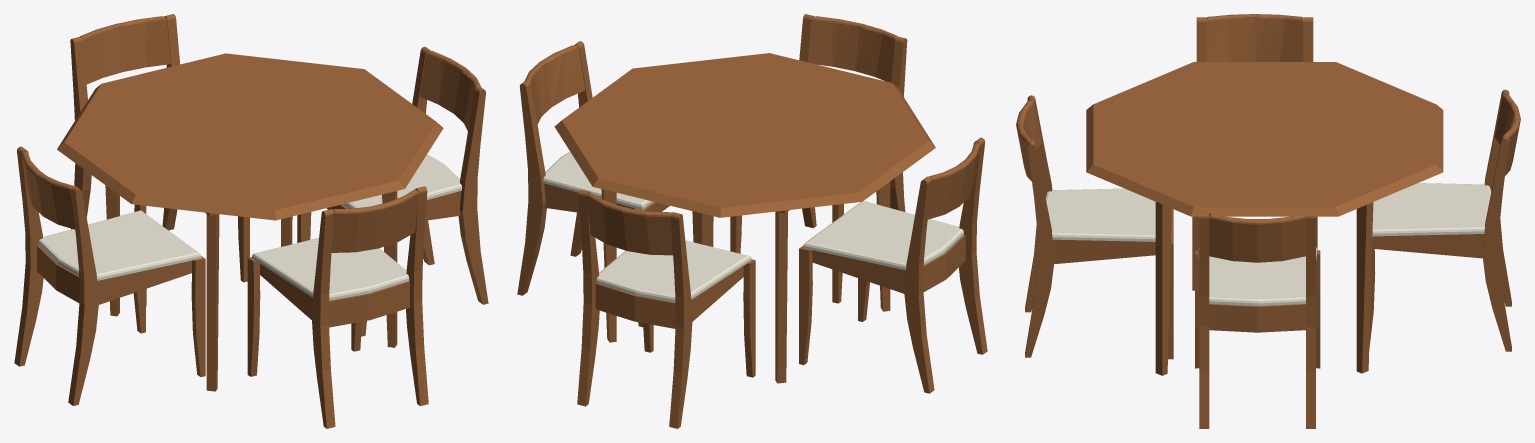
The model's file is BistroSet.glb.
3 renders of one model, left to right at view 1: azimuth 30°, elevation 25°; view 2: azimuth 150°, elevation 25°; view 3: azimuth 270°, elevation 25°, orthographic.
Visible parts, largest first — view 1: Node; view 2: Node; view 3: Node.
Boxes of the visible parts, x1,y1,x2,y2 form: Node: [14, 14, 488, 428]; Node: [517, 14, 987, 428]; Node: [1016, 14, 1520, 428].
Bounding box in the file's own units: 66.44 × 31.6 × 67.9.
